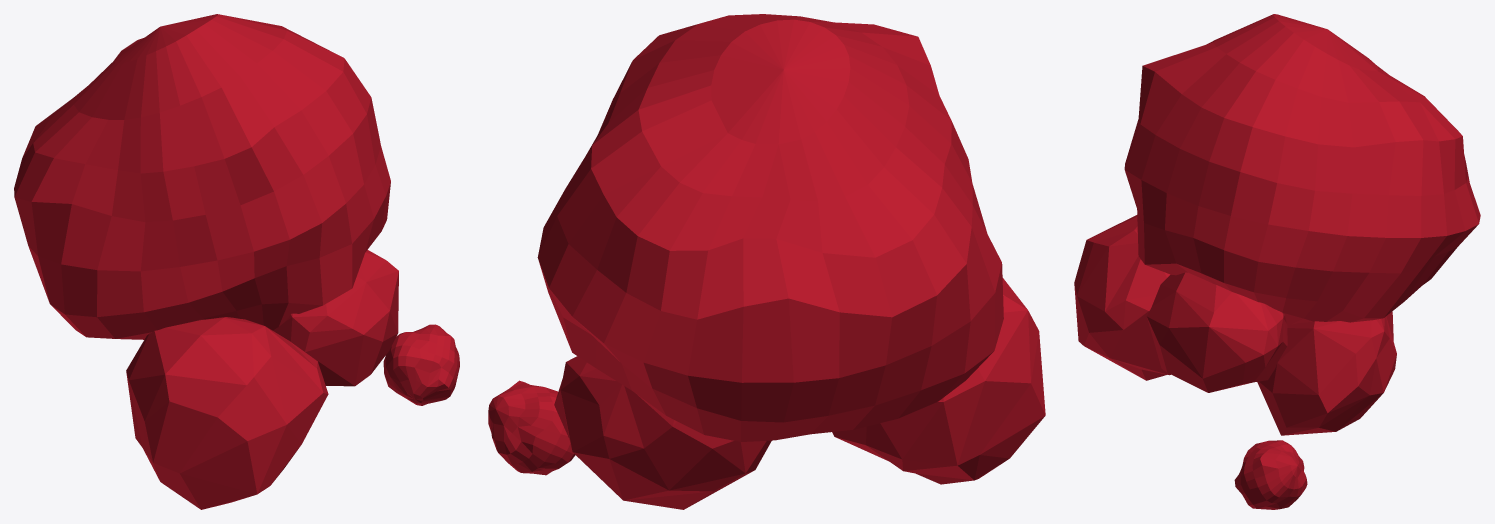
File: tree-dead-leaves-9-052.glb
The picture shows the model from 3 angles, left to right: view 1: azimuth 30°, elevation 25°; view 2: azimuth 150°, elevation 25°; view 3: azimuth 270°, elevation 25°; orthographic projection. The views are drawn at different scales.
Visible parts, largest first — view 1: TREE 9.007_520; view 2: TREE 9.007_520; view 3: TREE 9.007_520.
Part boxes in pixels (x1,y1,x2,y2): TREE 9.007_520: [14, 14, 459, 509]; TREE 9.007_520: [488, 14, 1045, 509]; TREE 9.007_520: [1074, 14, 1480, 509].
Bounding box in the file's own units: 1.3 × 1.3 × 1.22.
